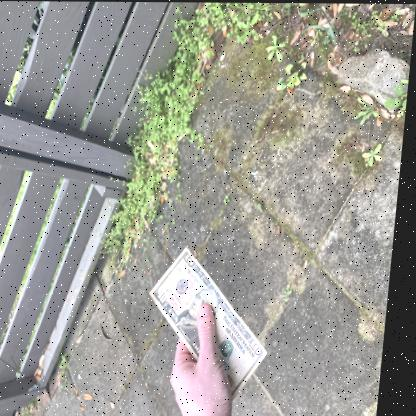ten-front: (149, 240, 268, 406)
